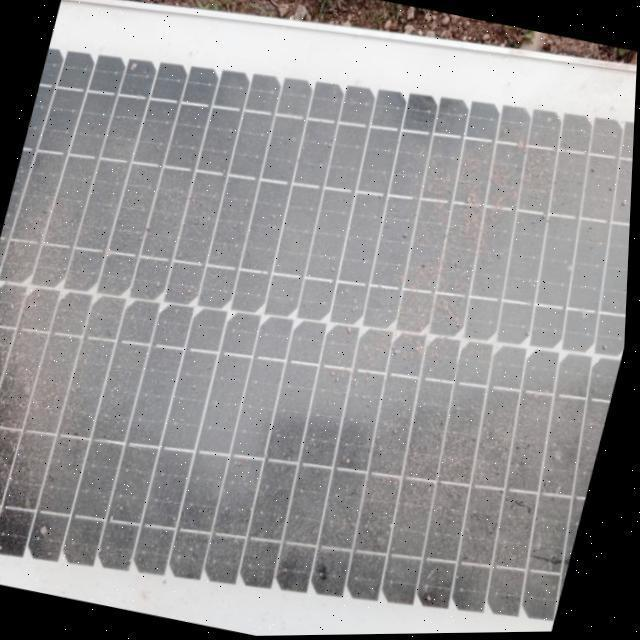Anomaly Solar Panel: (0, 10, 639, 640)
Surface Contaminant: (0, 23, 635, 635)
